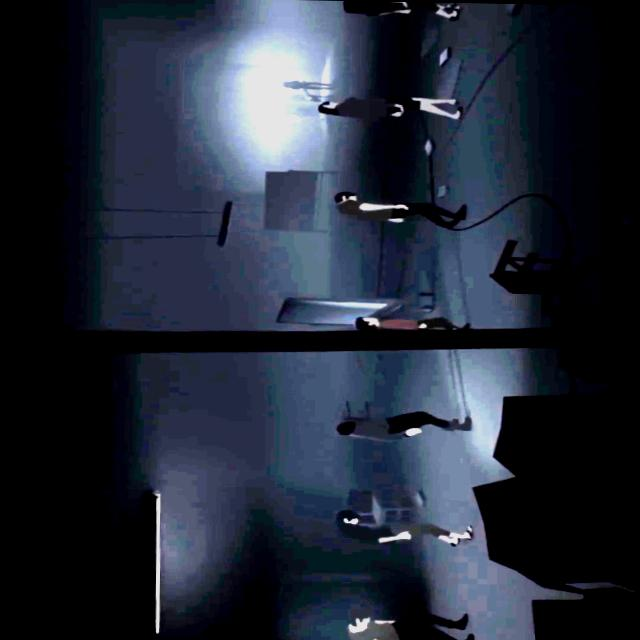boy: (352, 312, 468, 331)
human: (272, 79, 330, 90), (270, 101, 314, 112), (275, 112, 311, 118)
zombie: (337, 510, 474, 546), (332, 192, 468, 228), (335, 408, 468, 441), (314, 94, 460, 122), (347, 614, 471, 640), (341, 0, 461, 18)
